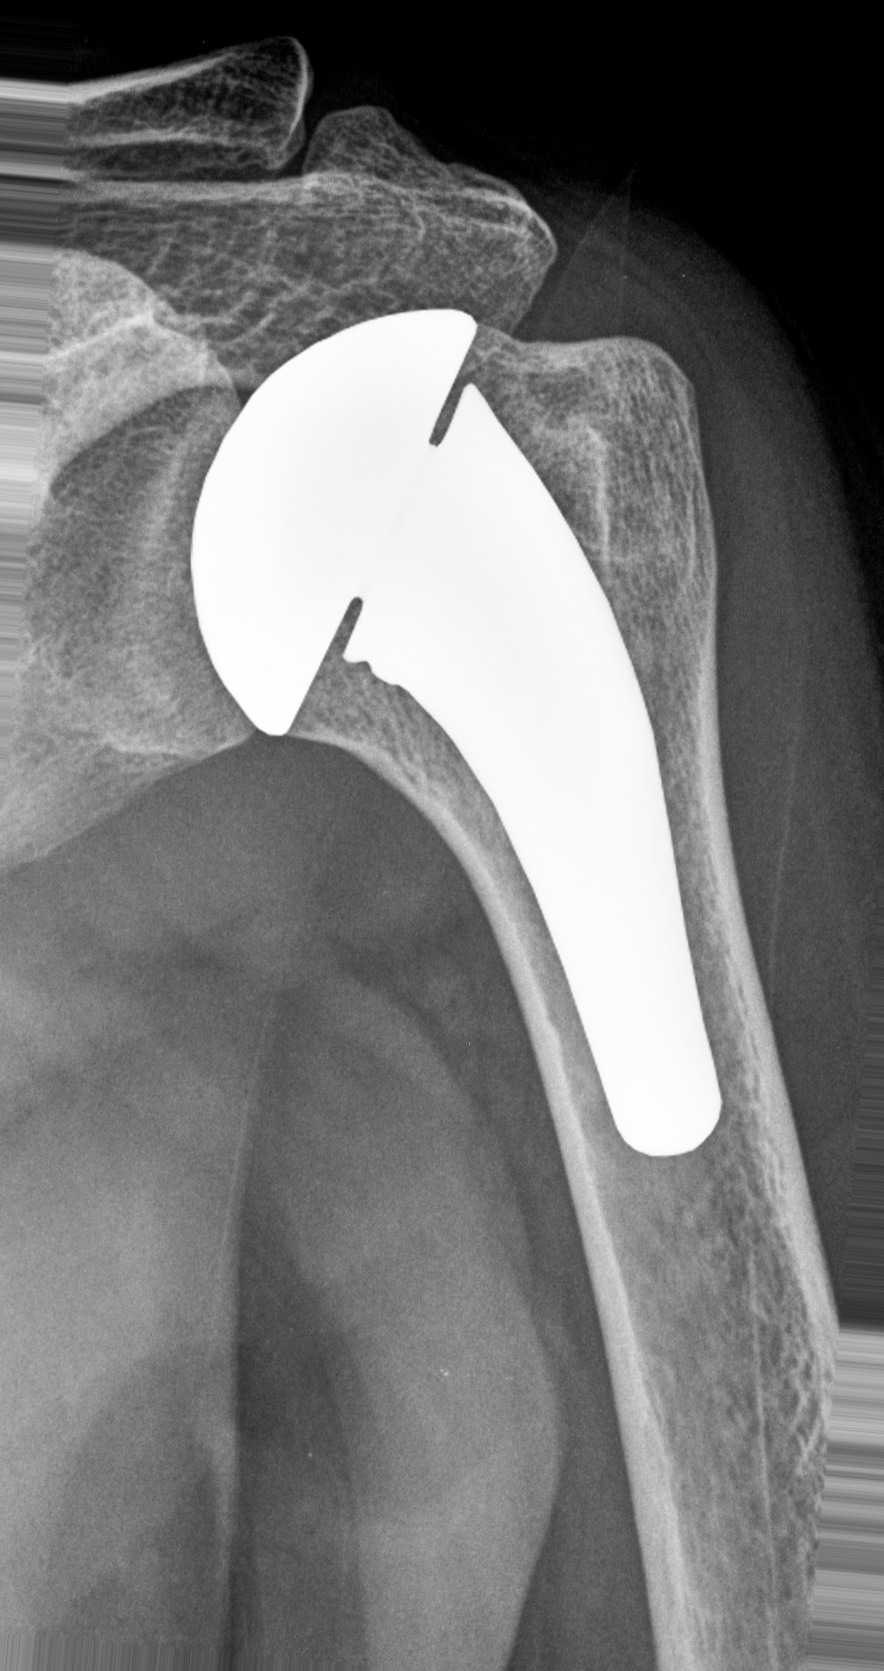Shoulder - AequalisAscendFlex - Tornier: (180, 292, 488, 747)
